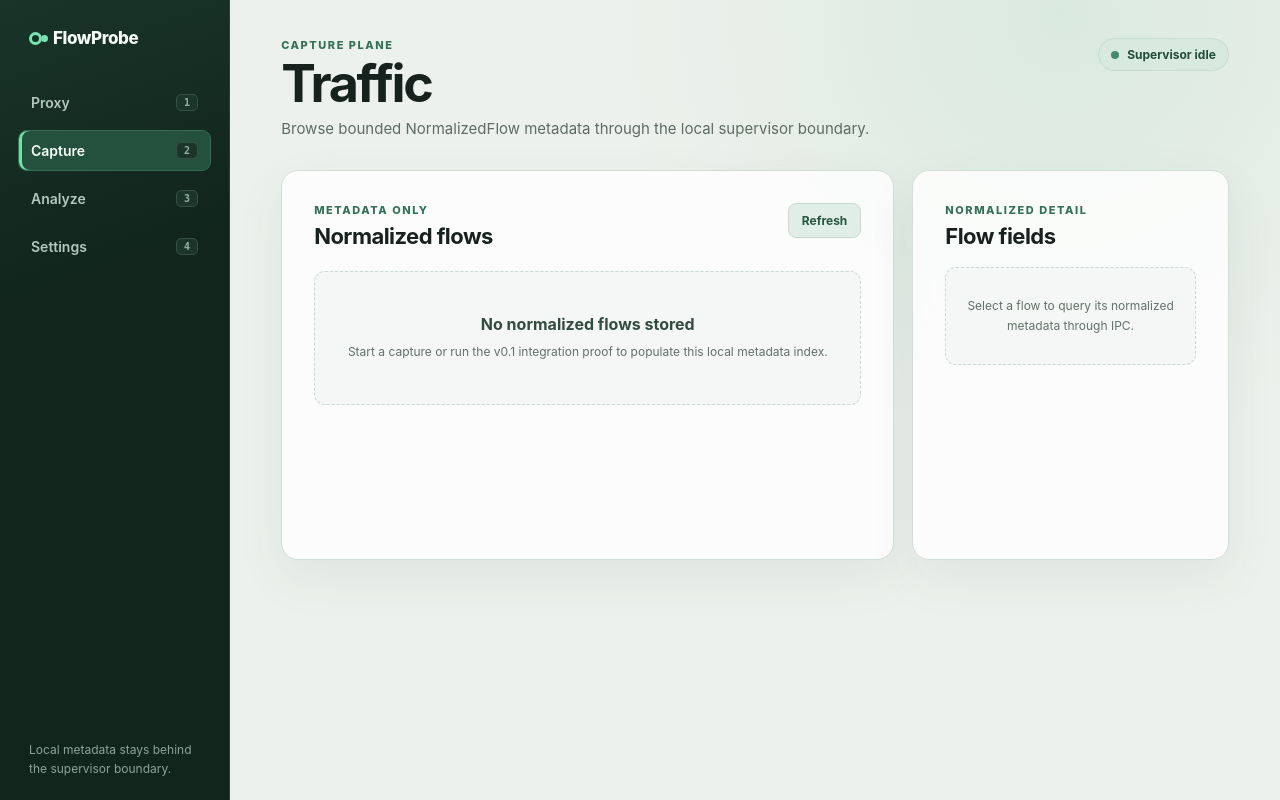
Test: desktop shell behavior › operates all four product surfaces by click and keyboard
Expected: the heading "No normalized flows stored" is shown, [481, 314, 695, 334]
Step 1. Click the button "Proxy 1" → click(114, 102), box [18, 82, 211, 123]
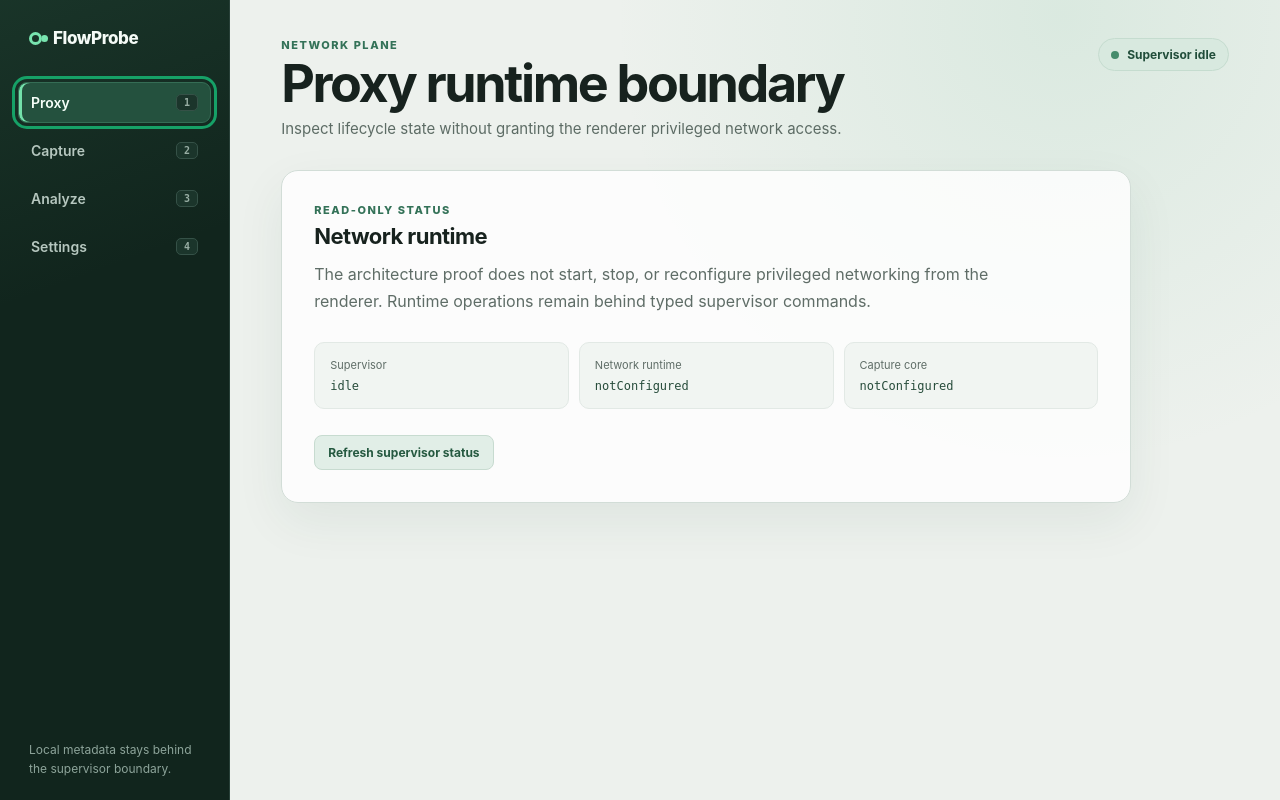
Expected: the heading "Network runtime" is shown, [314, 223, 487, 249]
Step 2. Click the button "Refresh supervisor status" → click(404, 452), box [314, 435, 494, 470]
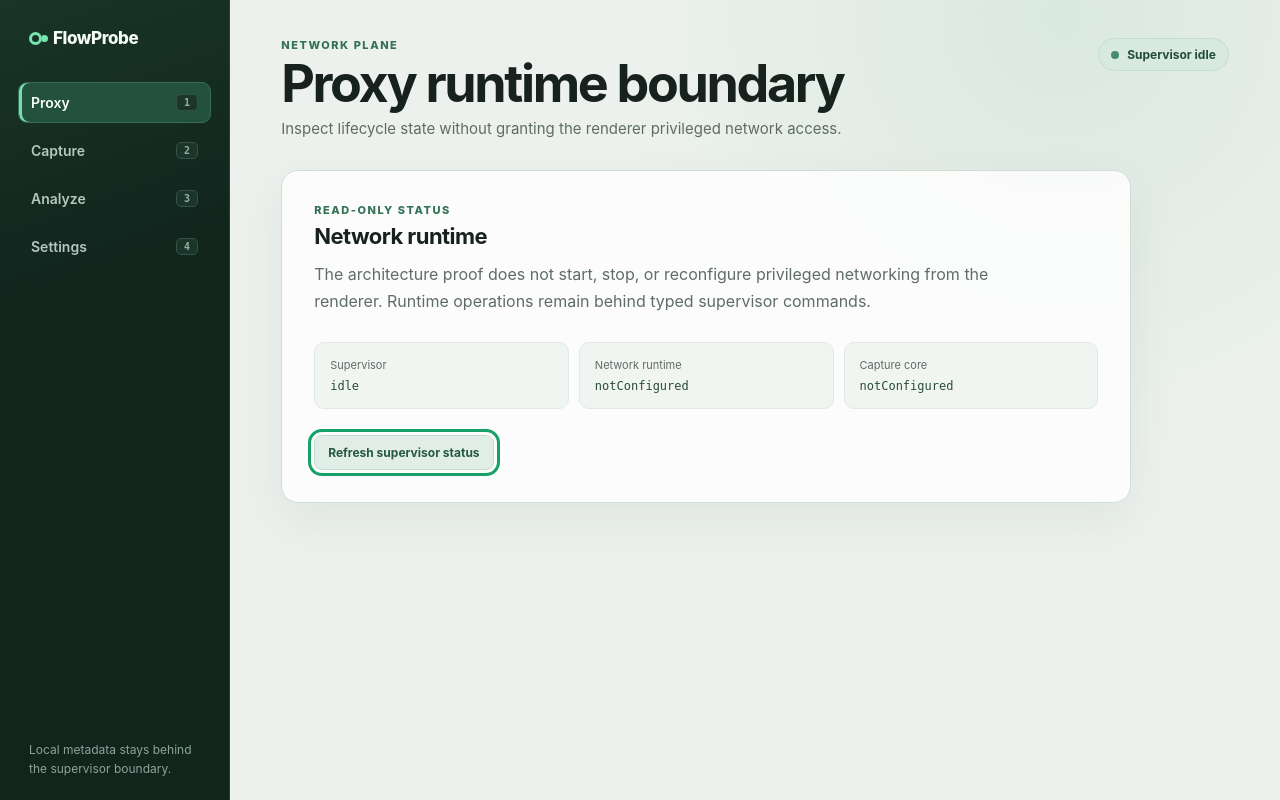
Step 3. Click the button "Capture 2" → click(114, 150), box [18, 130, 211, 171]
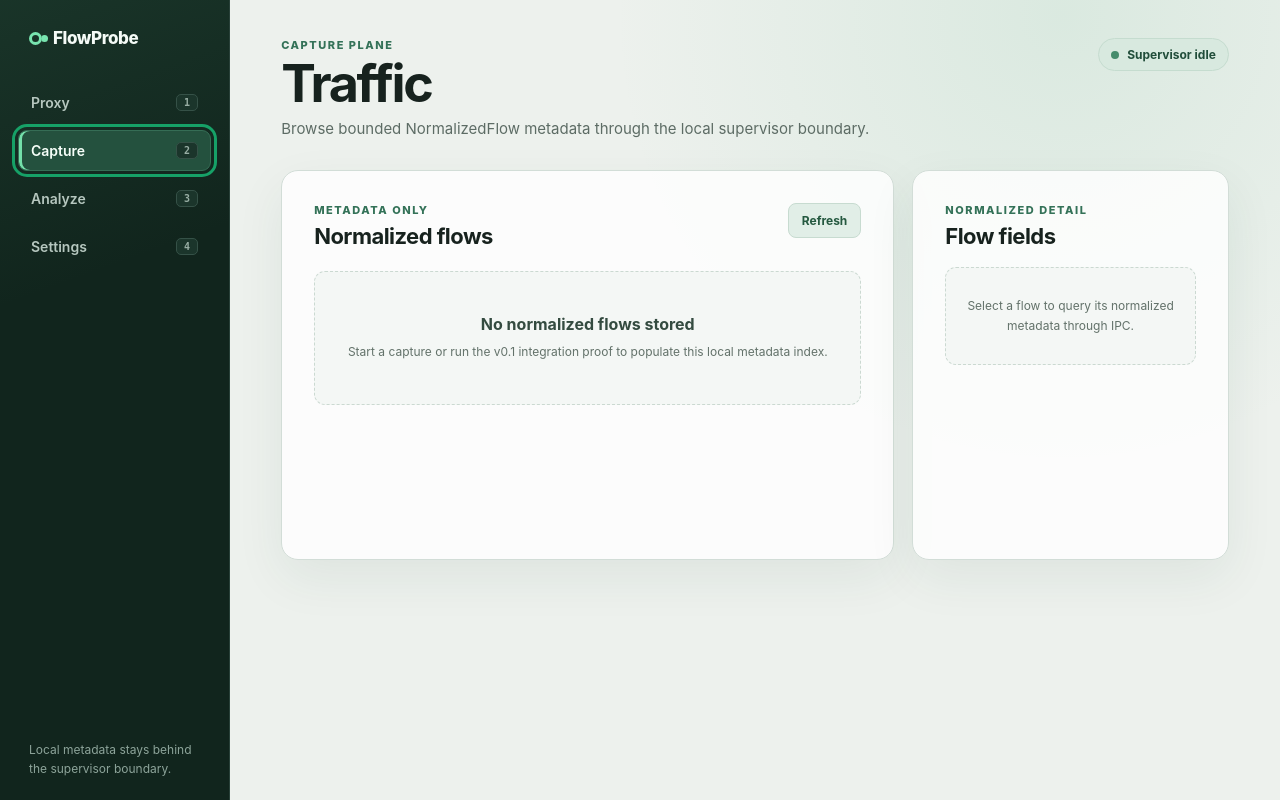
Expected: the heading "Normalized flows" is shown, [314, 223, 493, 249]
Step 4. Press 3
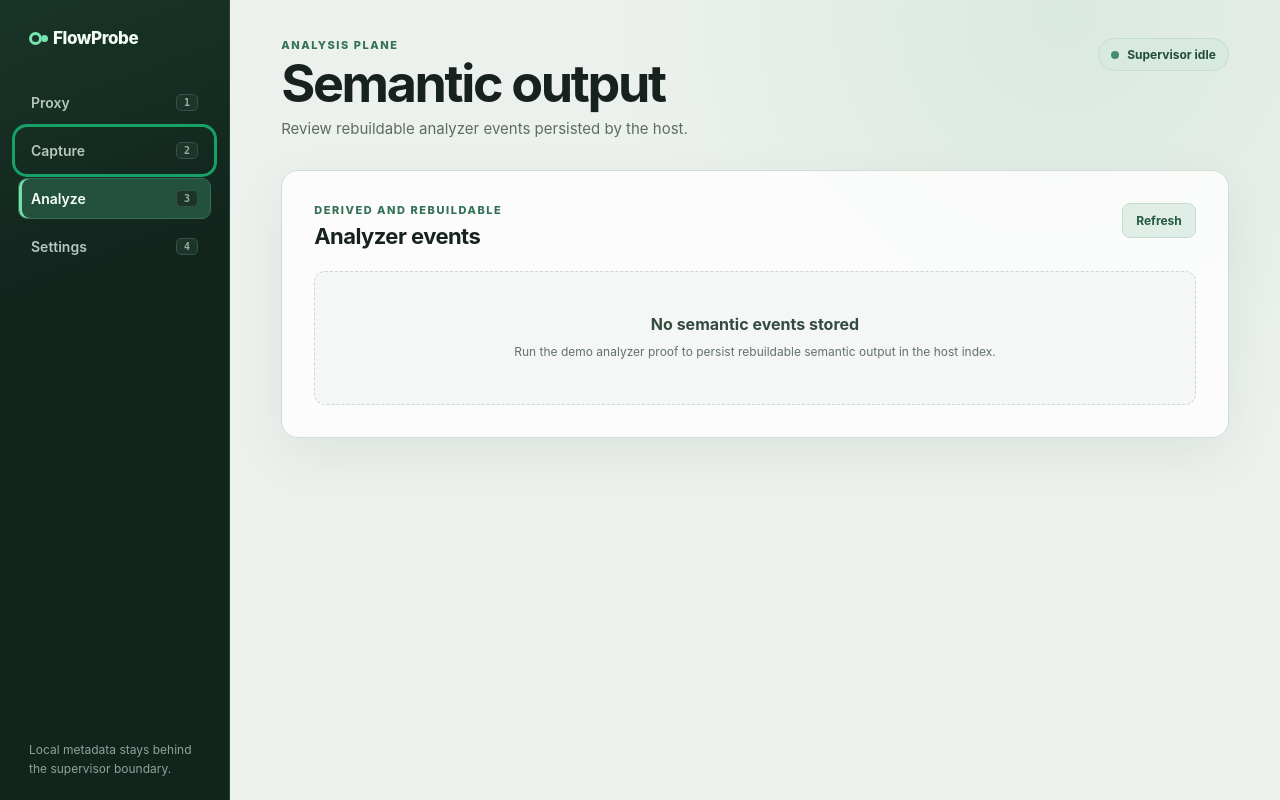
Expected: the heading "Analyzer events" is shown, [314, 223, 502, 249]
Step 5. Press 4
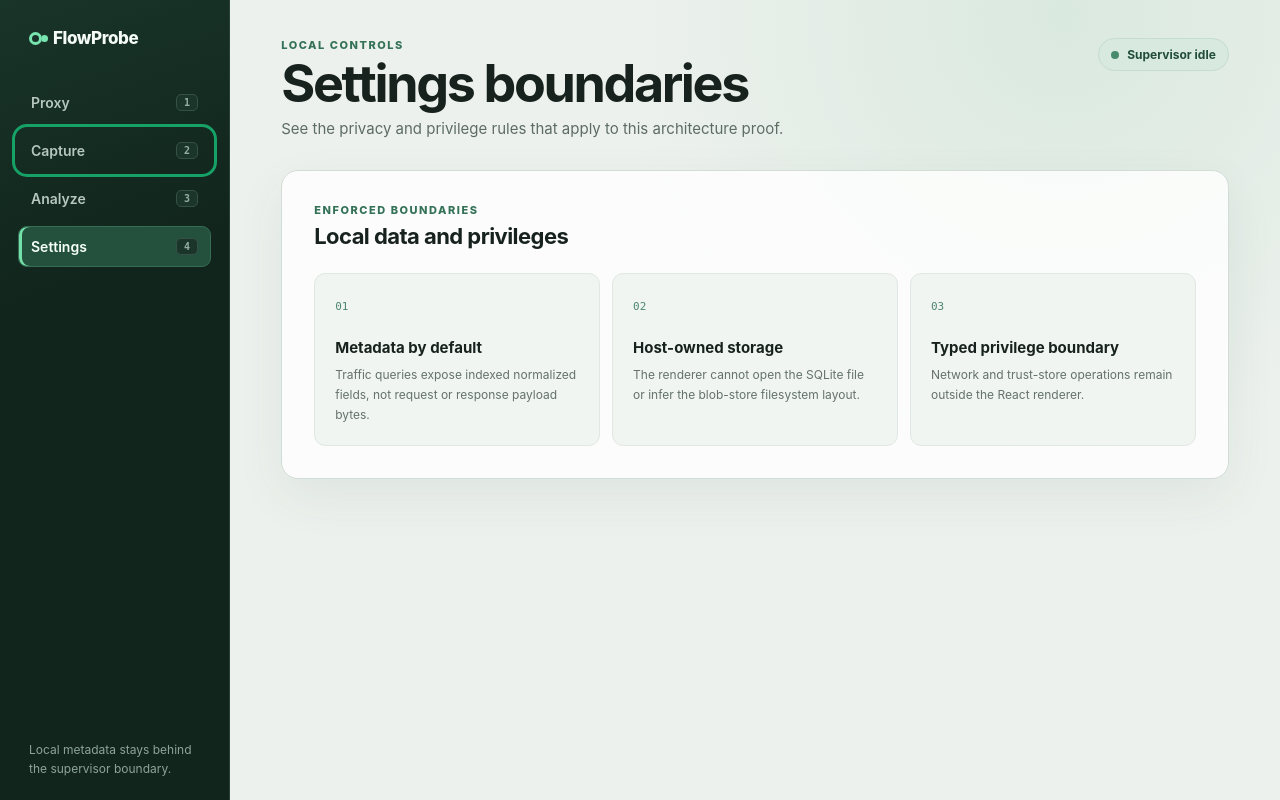
Expected: the navigation bar named "Product surfaces" is shown, [18, 82, 211, 267]
Expected: the heading "Local data and privileges" is shown, [314, 223, 568, 249]
